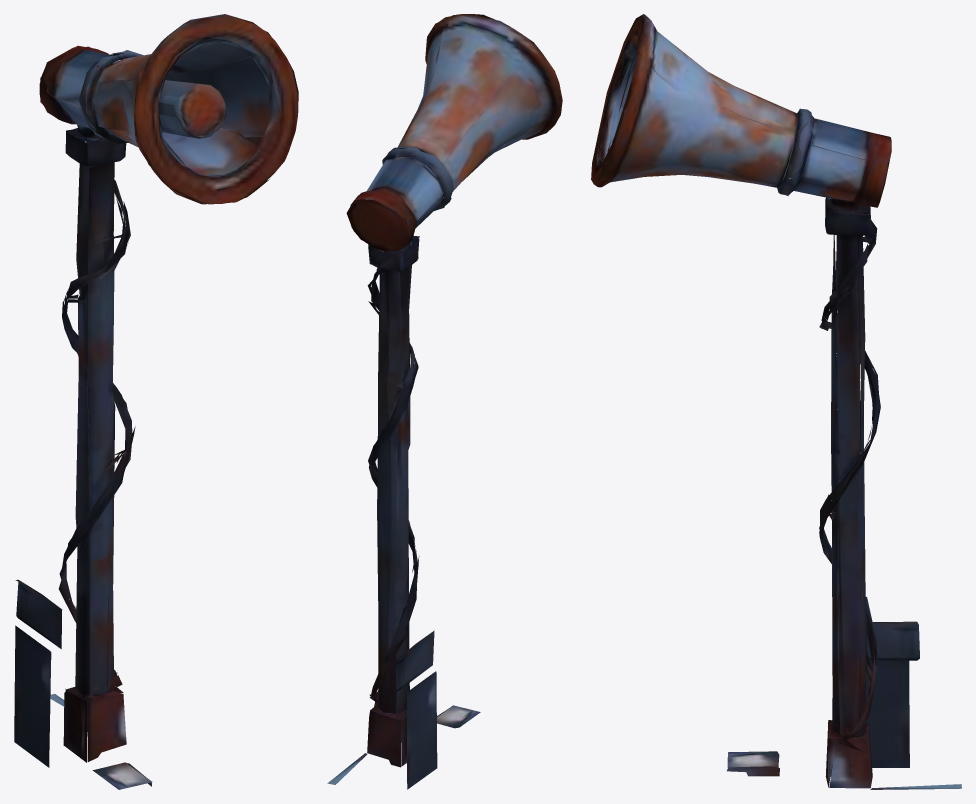
The model's file is speaker.glb.
3 renders of one model, left to right at view 1: azimuth 30°, elevation 25°; view 2: azimuth 150°, elevation 25°; view 3: azimuth 270°, elevation 25°, orthographic. The views are drawn at different scales.
Parts seen in each view (by area): view 1: horn, pole; view 2: horn, pole; view 3: horn, pole.
Boxes of the visible parts, x1,y1,x2,y2 form: horn: (39, 14, 298, 204); pole: (14, 129, 152, 789); horn: (346, 14, 562, 270); pole: (327, 250, 480, 789); horn: (591, 14, 891, 235); pole: (727, 215, 961, 789).
Bounding box in the file's own units: 0.1248 × 0.6054 × 0.2651.
Materials: 1 (1 with a texture image).
